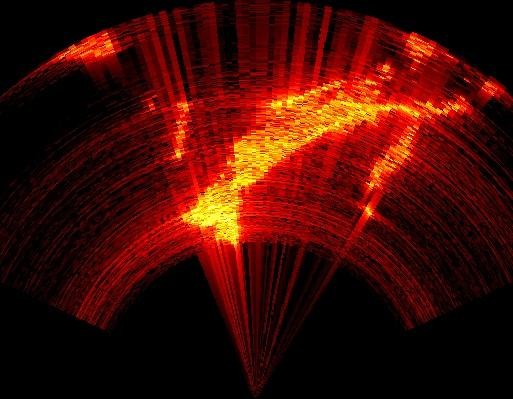shipwreck: (182, 78, 467, 245), (407, 34, 433, 71), (176, 103, 188, 158), (378, 62, 391, 81)
